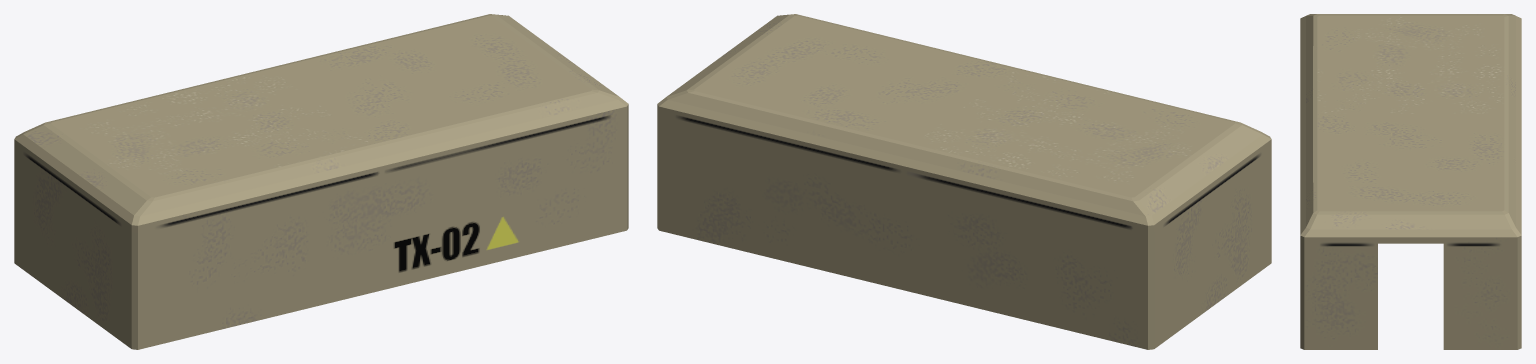
File: Houses.fbx
The picture shows the model from 3 angles, left to right: view 1: azimuth 30°, elevation 25°; view 2: azimuth 150°, elevation 25°; view 3: azimuth 270°, elevation 25°; orthographic projection. The views are drawn at different scales.
Parts seen in each view (by area): view 1: House; view 2: House; view 3: House.
Part boxes in pixels (left/top/right/bottom): House: left=14, top=14, right=628, bottom=349; House: left=657, top=14, right=1271, bottom=349; House: left=1300, top=14, right=1521, bottom=349.
Bounding box in the file's own units: 800 × 214 × 340.
